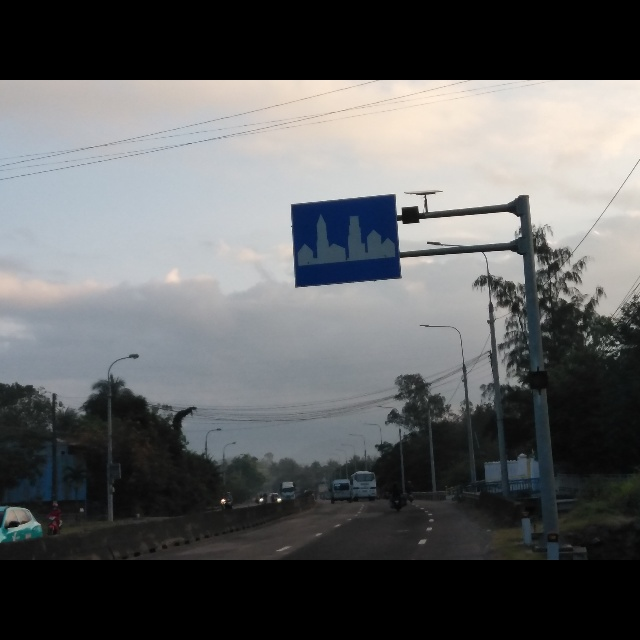Khu đông dân cư: (287, 191, 403, 291)
